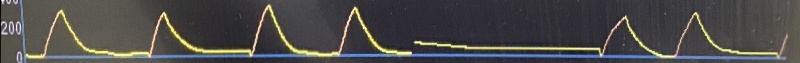normal_volume: (29, 1, 416, 63), (591, 7, 778, 63)
